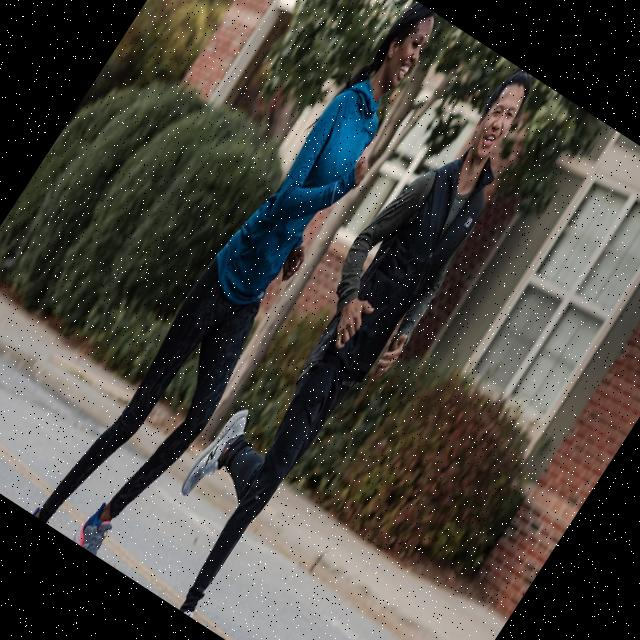Person: (120, 35, 564, 634), (29, 0, 462, 567)
